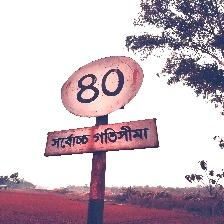Speed-limit: (46, 54, 157, 156)
